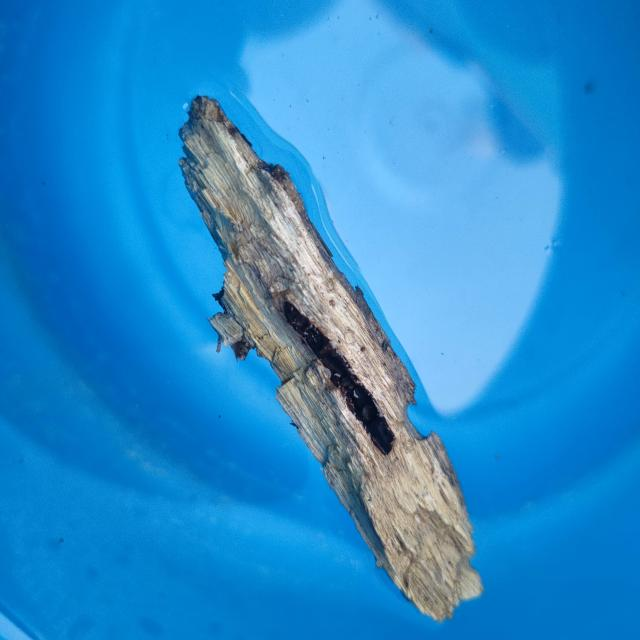wood: (149, 76, 497, 634)
